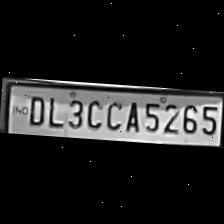2: (160, 99, 180, 133)
3: (64, 94, 84, 128)
5: (140, 98, 160, 132), (198, 101, 218, 135)
6: (178, 100, 198, 135)
A: (121, 98, 141, 133)
C: (102, 96, 122, 132), (84, 95, 103, 130)
D: (24, 92, 46, 125)
L: (44, 92, 64, 128)
